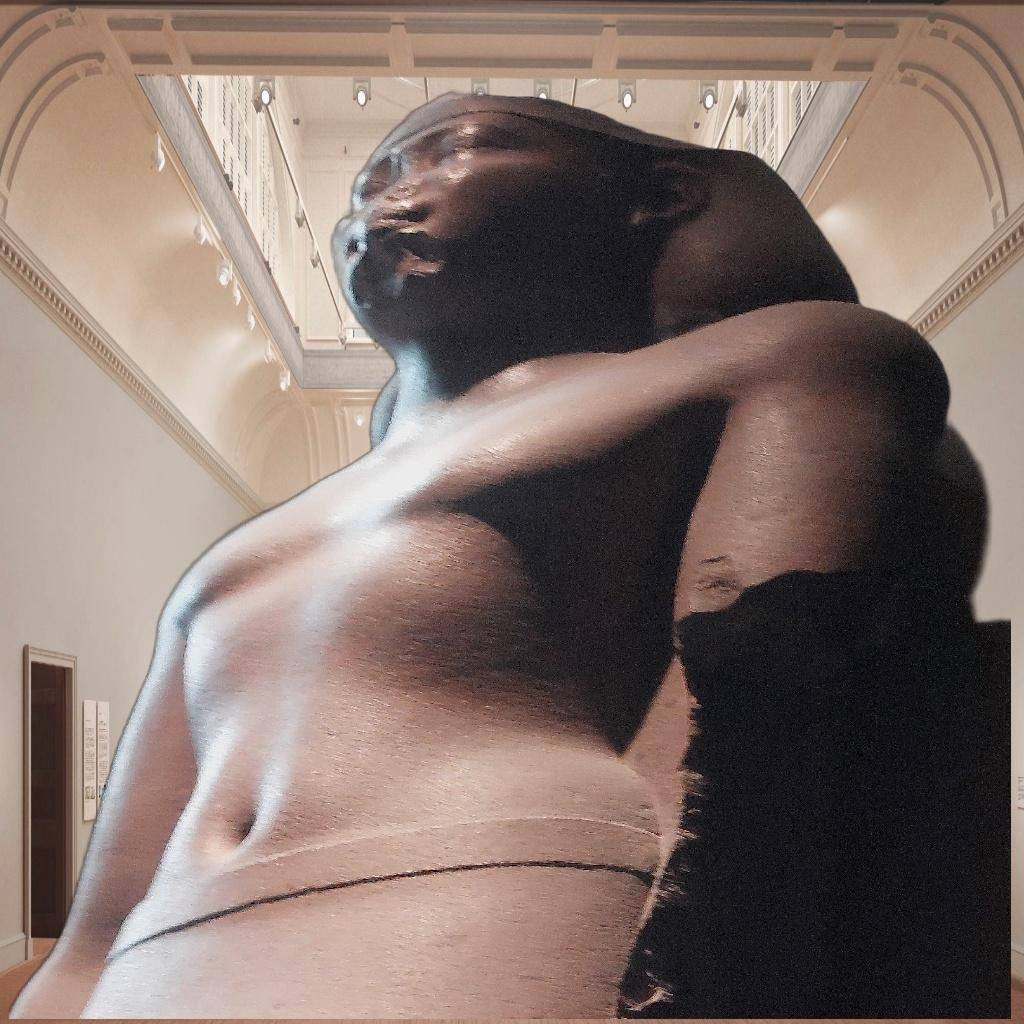Colossal Statue of Hormoheb: (8, 89, 1012, 1019)
